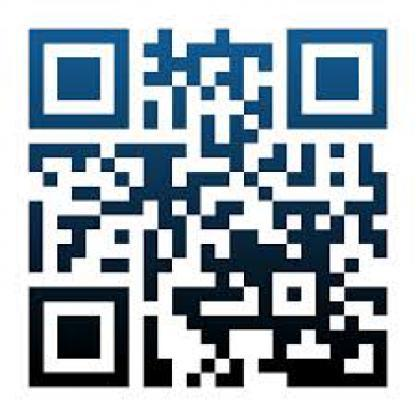qr_code: (28, 29, 388, 389)
